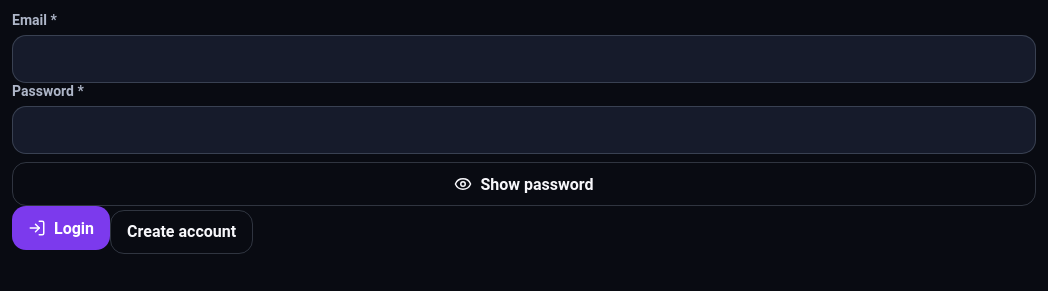
Test: auth forms › shows login validation errors
Click the button "Login" at (61, 228), box [12,206,110,250]
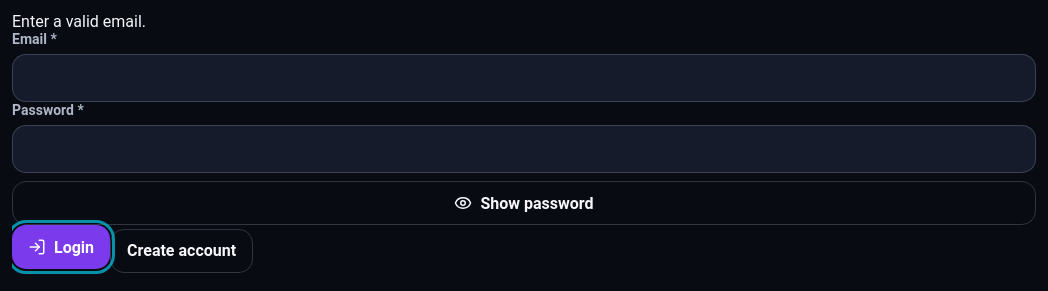
Expected: the text "Enter a valid email." is shown, [12,12,146,31]
